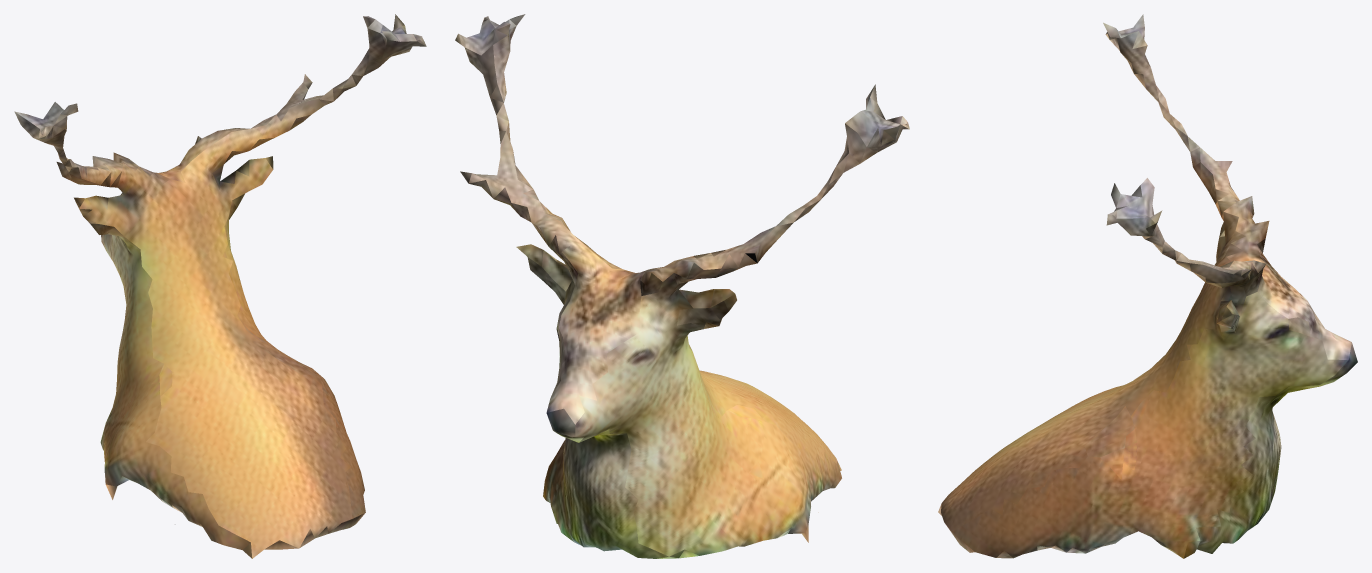
File: ciucas.glb
The picture shows the model from 3 angles, left to right: view 1: azimuth 30°, elevation 25°; view 2: azimuth 150°, elevation 25°; view 3: azimuth 270°, elevation 25°; orthographic projection. The views are drawn at different scales.
Visible parts, largest first — view 1: world; view 2: world; view 3: world.
Part boxes in pixels (box(x1,y1,x2,y2)): world: box(14, 14, 426, 558); world: box(455, 14, 909, 558); world: box(938, 14, 1357, 558).
Size of the model in its own units: 0.8042 by 0.8279 by 0.7338.
1 material, 1 textured.
